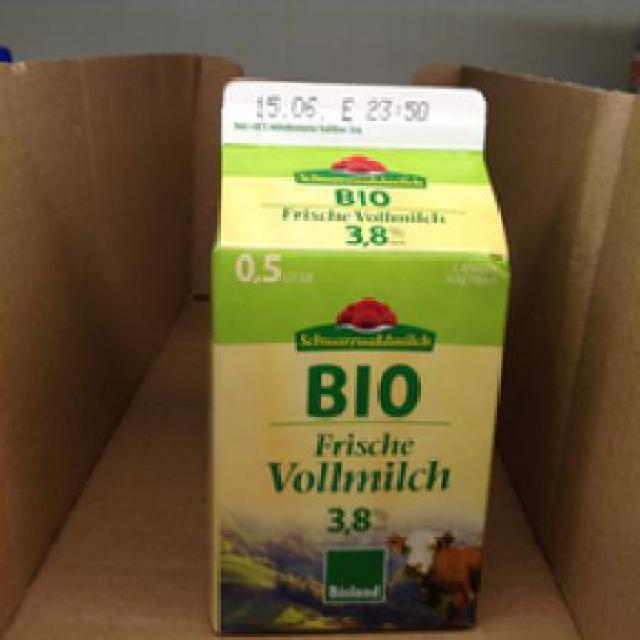Milk: (206, 68, 508, 634)
